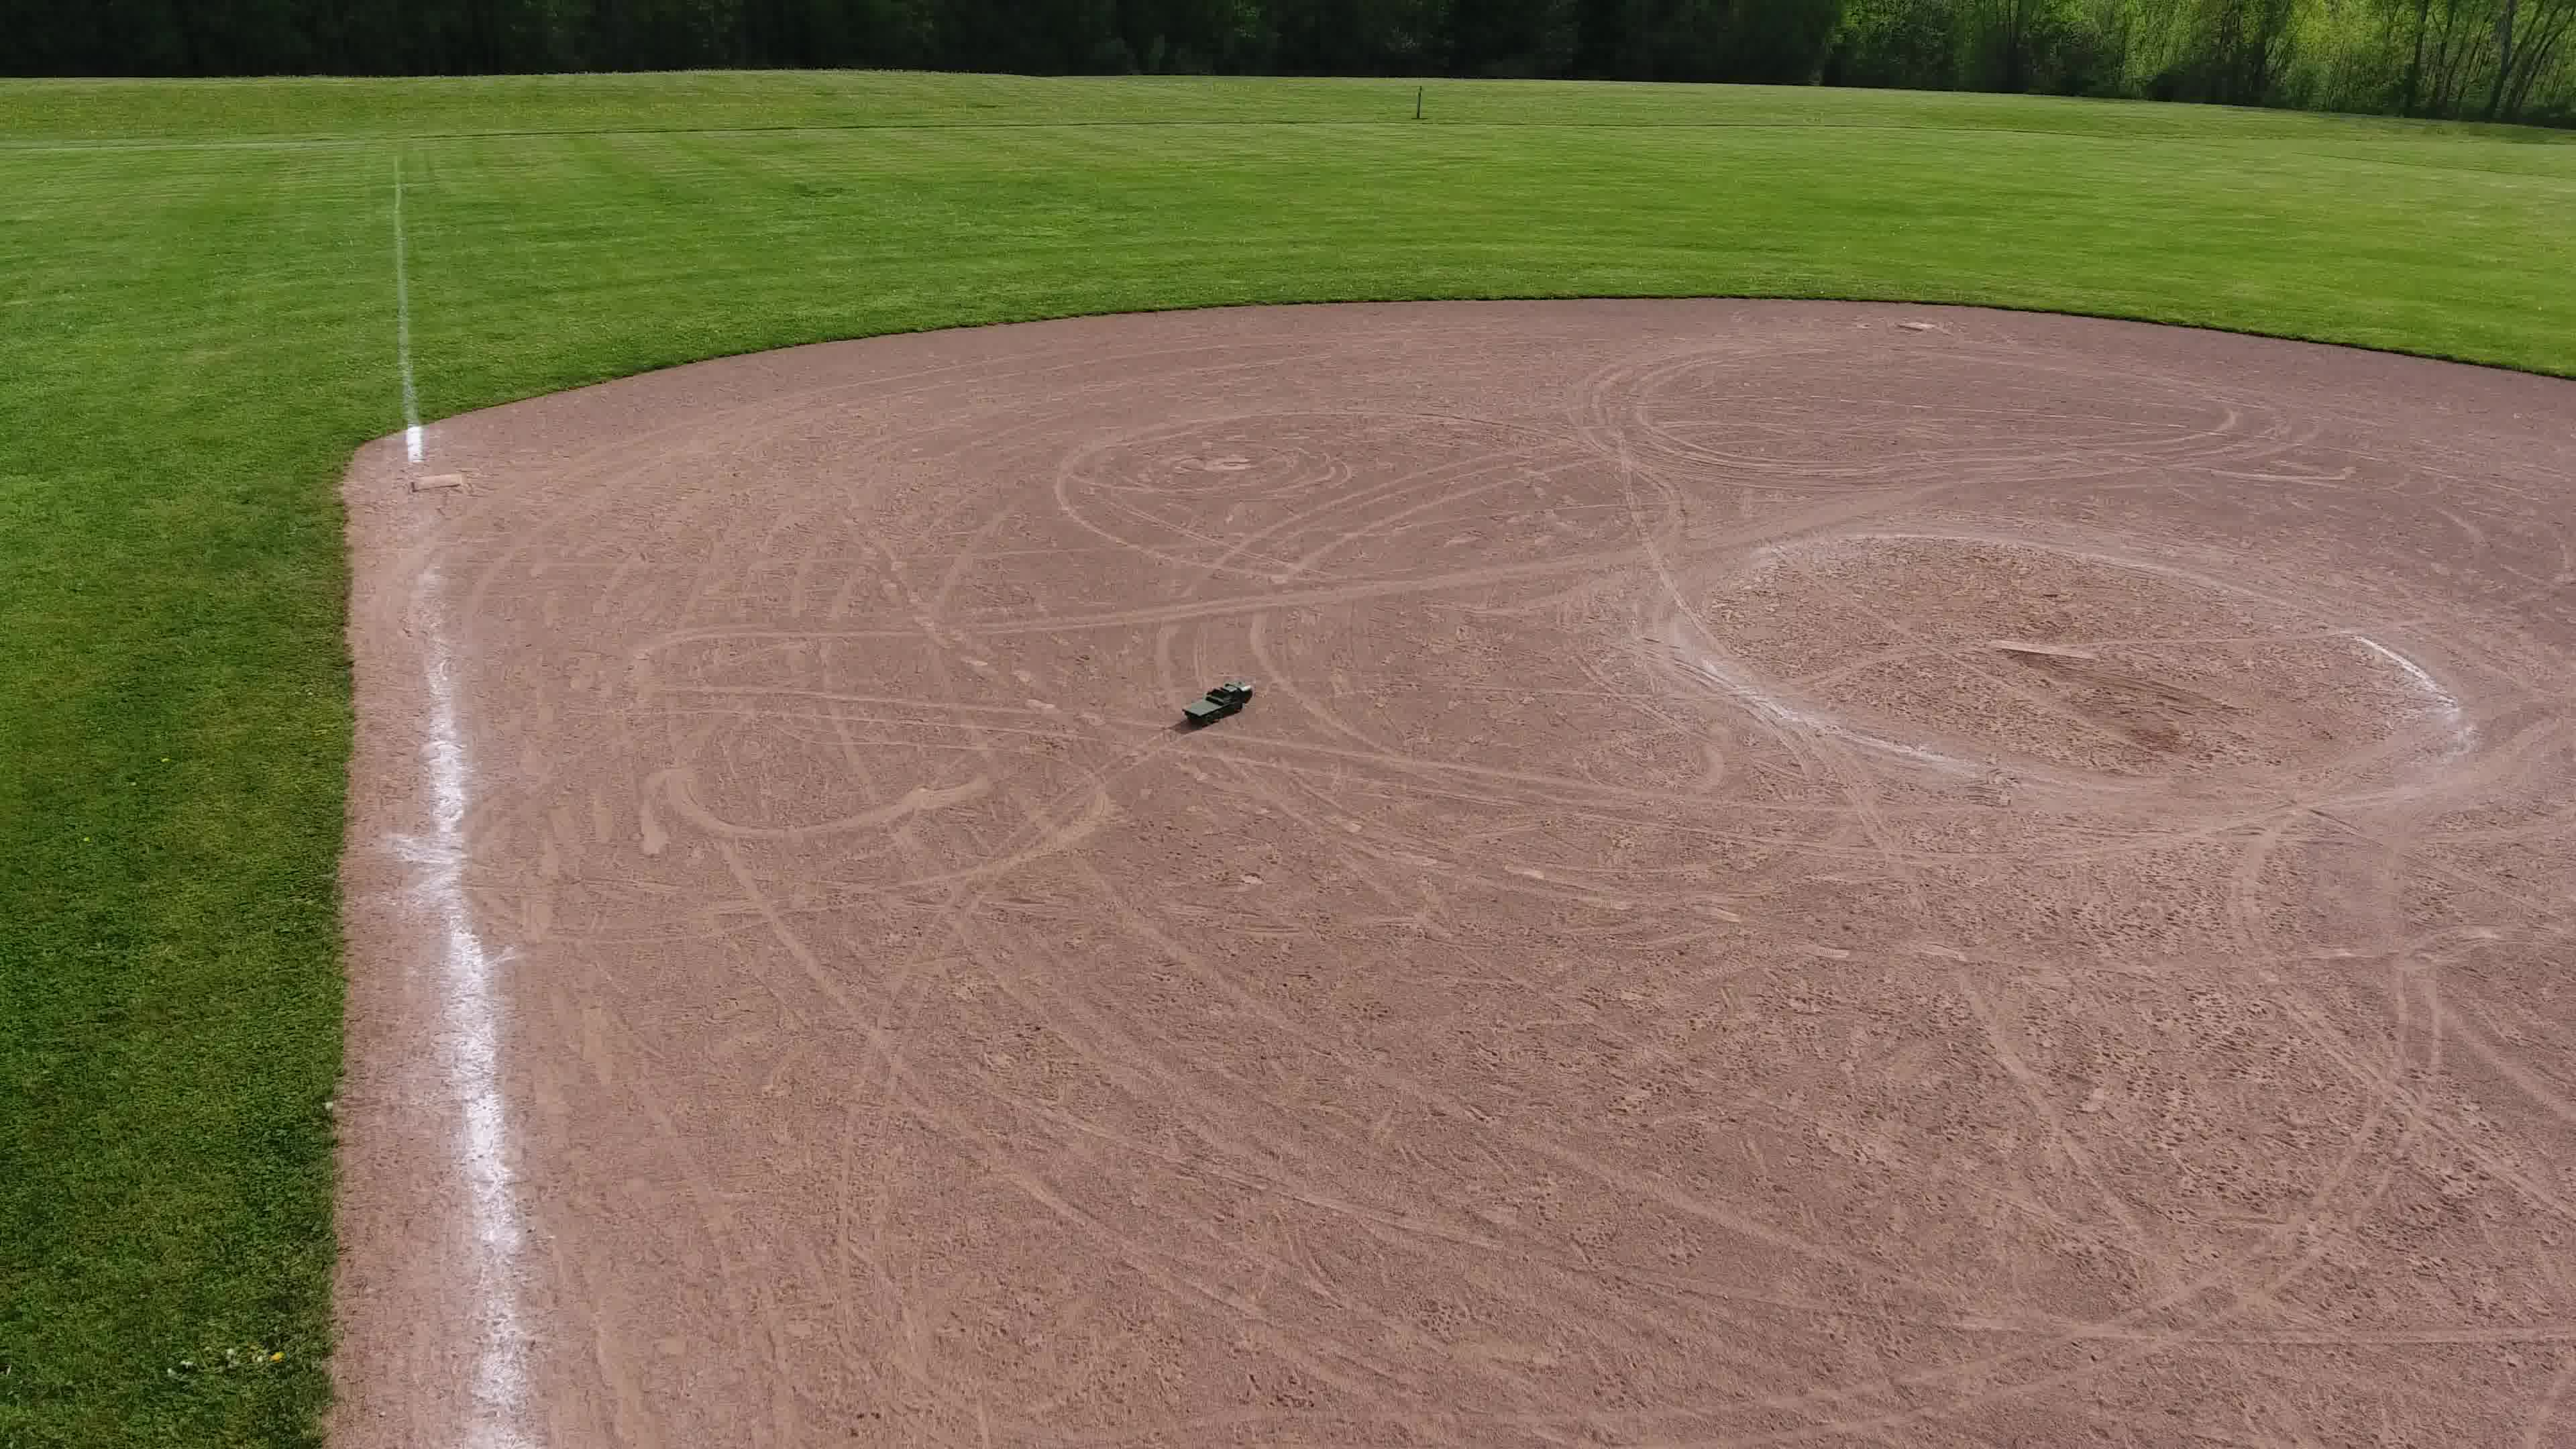transporter9: (1180, 678, 1260, 727)
